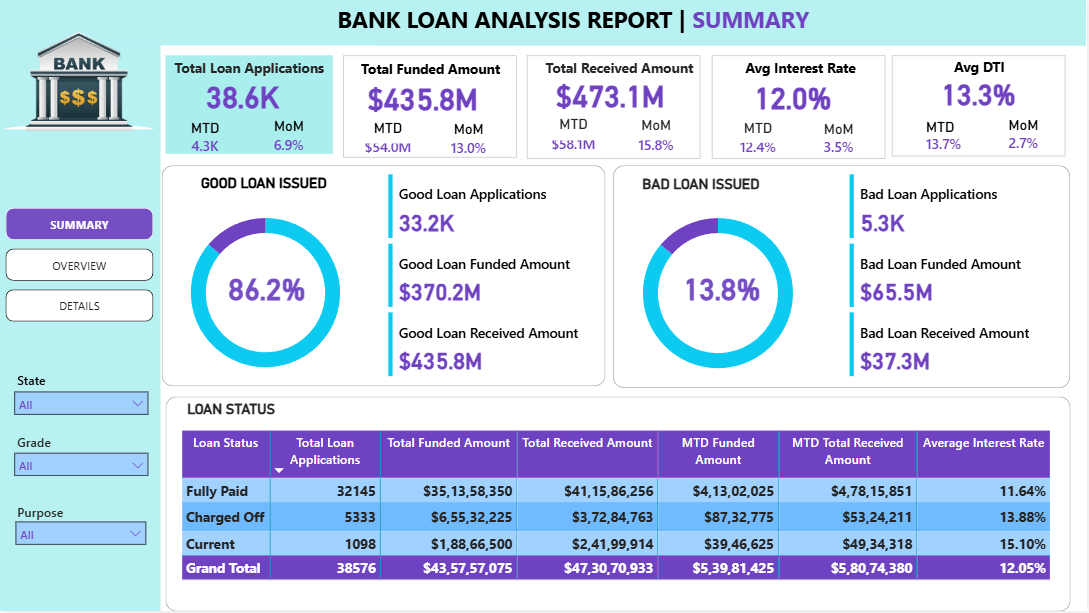

The page's visual inventory and layout, read from the dashboard file:
{"tool":"powerbi","page":{"name":"SUMMARY","canvas":[1280,720],"ordinal":0},"visuals":[{"type":"shape","box":[0,0,1280.3,54.9],"z":0},{"type":"shape","box":[405.3,66,204.4,120.6],"z":0,"group":"g2"},{"type":"shape","box":[622,66.4,204.4,122.1],"z":0,"group":"g3"},{"type":"shape","box":[840.7,66.6,204.4,122.1],"z":0,"group":"g4"},{"type":"shape","box":[197,67,197.1,116.2],"z":0,"group":"g1"},{"type":"shape","box":[1051.6,67,204.4,119.1],"z":0,"group":"g5"},{"type":"shape","box":[0,54.4,191.2,666.2],"z":1000},{"type":"card","fields":{"Values":["financial_loan.Total Loan Applications"]},"box":[216,88.3,143.6,49.1],"z":1000,"group":"g1"},{"type":"card","fields":{"Values":["financial_loan.Total Received Amount"]},"box":[646,88.4,149.6,46.9],"z":1000,"group":"g3"},{"type":"card","fields":{"Values":["financial_loan.Average Interest Rate"]},"box":[860.2,89.2,149.5,49.1],"z":1000,"group":"g4"},{"type":"card","fields":{"Values":["financial_loan.Total Funded Amount"]},"box":[424.2,90.3,149.5,48],"z":1000,"group":"g2"},{"type":"textbox","box":[1046.6,63.8,214.7,49.1],"z":2000,"group":"g5"},{"type":"textbox","box":[837.2,64.7,214.7,49.1],"z":2000,"group":"g4"},{"type":"textbox","box":[623,65,214.8,46.9],"z":2000,"group":"g3"},{"type":"textbox","box":[194,65.4,202.7,45.9],"z":2000,"group":"g1"},{"type":"shape","box":[192.7,196.1,522,260],"z":2000},{"type":"card","title":"MTD","fields":{"Values":["financial_loan.MTD Total Received Amount"]},"box":[639.2,137.5,74.3,41.3],"z":3000,"group":"g3"},{"type":"card","title":"MTD","fields":{"Values":["financial_loan.MTD Funded Amount"]},"box":[417.4,140.9,82.2,42],"z":3000,"group":"g2"},{"type":"card","title":"MTD","fields":{"Values":["financial_loan.MTD Avg Int Rate"]},"box":[853.4,141,82.2,42.9],"z":3000,"group":"g4"},{"type":"card","title":"MTD","fields":{"Values":["financial_loan.MTD Loan Applications"]},"box":[214.9,142.6,57.7,45.4],"z":3000,"group":"g1"},{"type":"card","fields":{"Values":["financial_loan.Good Loan %"]},"box":[238,315.3,155.8,49.1],"z":3000},{"type":"textbox","box":[393.9,0,587.7,63.8],"z":4000},{"type":"card","title":"MoM","fields":{"Values":["financial_loan.MoM Total Received Amount"]},"box":[744.7,139,60.1,43.3],"z":4000,"group":"g3"},{"type":"card","title":"MoM","fields":{"Values":["financial_loan.MoM Loan Application"]},"box":[313.1,140.1,57.7,45.4],"z":4000,"group":"g1"},{"type":"card","title":"MoM","fields":{"Values":["financial_loan.MoM Total Funded Amount"]},"box":[522.9,142.1,60.1,44.4],"z":4000,"group":"g2"},{"type":"card","title":"MoM","fields":{"Values":["financial_loan.MoM Avg Int Rate"]},"box":[958.9,142.2,60.1,45.4],"z":4000,"group":"g4"},{"type":"group","id":"g1","title":"Group 1","box":[194,65.4,202.7,122.6],"z":5000},{"type":"group","id":"g2","title":"Group 1","box":[401.2,66,214.7,120.6],"z":6000},{"type":"group","id":"g3","title":"Group 1","box":[622,65,215.7,123.5],"z":7000},{"type":"textbox","box":[401.2,66.3,214.7,48],"z":7500,"group":"g2"},{"type":"group","id":"g4","title":"Group 1","box":[837.2,64.7,214.7,124],"z":8000},{"type":"group","id":"g5","title":"Group 1","box":[1046.6,63.8,214.7,122.3],"z":9000},{"type":"textbox","box":[1104.3,88.3,112.9,56.4],"z":10000},{"type":"textbox","box":[1087.1,135,67.5,55.2],"z":11000},{"type":"textbox","box":[1184.1,133.7,67.5,55.2],"z":12000},{"type":"shape","box":[723.1,196.2,537.8,262.2],"z":13000},{"type":"donutChart","fields":{"Category":["financial_loan.Good vs Bad Loan"],"Y":["financial_loan.Total Loan Applications"]},"box":[190.2,230.4,250.3,229.4],"z":14000},{"type":"textbox","box":[234.1,201.5,188.2,35.3],"z":15000},{"type":"cardVisual","fields":{"Data":["financial_loan.Good Loan Applications","financial_loan.Good Loan Funded Amount","financial_loan.Good Loan Received Amount"]},"box":[454,202.2,246.6,249.1],"z":16000},{"type":"donutChart","fields":{"Category":["financial_loan.Good vs Bad Loan"],"Y":["financial_loan.Total Loan Applications"]},"box":[722.8,231.6,250.3,230.7],"z":17000},{"type":"textbox","box":[753.4,203.4,187.7,34.4],"z":18000},{"type":"card","fields":{"Values":["financial_loan.Bad Loan %"]},"box":[774.2,315.3,155.8,49.1],"z":19000},{"type":"cardVisual","fields":{"Data":["financial_loan.Bad Loan Applications","financial_loan.Bad Loan Funded Amount","financial_loan.Bad Loan Received Amount"]},"box":[996.4,202.2,246.6,249.1],"z":20000},{"type":"shape","box":[197.1,467.6,1064.7,252.9],"z":21000},{"type":"tableEx","fields":{"Values":["financial_loan.loan_status","financial_loan.Total Loan Applications","financial_loan.Total Funded Amount","financial_loan.Total Received Amount","financial_loan.MTD Funded Amount","financial_loan.MTD Total Received Amount","financial_loan.Average Interest Rate"]},"box":[210.3,502.9,1041.2,200],"z":22000},{"type":"textbox","box":[213.2,467.6,163.2,32.4],"z":23000},{"type":"slicer","fields":{"Values":["financial_loan.address_state"]},"box":[9.5,451.4,178.4,51.4],"z":24000},{"type":"textbox","box":[17.6,433.8,64.9,33.8],"z":25000},{"type":"slicer","fields":{"Values":["financial_loan.grade"]},"box":[9.5,523,178.4,48.6],"z":26000},{"type":"textbox","box":[17.6,505.4,73,35.1],"z":27000},{"type":"slicer","fields":{"Values":["financial_loan.purpose"]},"box":[9.8,603.7,174.2,50.3],"z":28000},{"type":"textbox","box":[17.2,587.7,84.7,30.7],"z":29000},{"type":"image","box":[2.7,6.8,185.1,179.7],"z":30000},{"type":"pageNavigator","box":[9.5,245.9,174.3,136.5],"z":31000}]}

Visuals, with their boxes in screenshot pixels (x1, y1, x2, y2), scaled from the page's 1280x720 canvas onto the 1089x613 screenshot:
shape: [x1=0, y1=0, x2=1088, y2=47]
shape: [x1=345, y1=56, x2=519, y2=159]
shape: [x1=529, y1=57, x2=703, y2=160]
shape: [x1=715, y1=57, x2=889, y2=161]
shape: [x1=168, y1=57, x2=335, y2=156]
shape: [x1=895, y1=57, x2=1069, y2=158]
shape: [x1=0, y1=46, x2=163, y2=612]
card - financial_loan.Total Loan Applications: [x1=184, y1=75, x2=306, y2=117]
card - financial_loan.Total Received Amount: [x1=550, y1=75, x2=677, y2=115]
card - financial_loan.Average Interest Rate: [x1=732, y1=76, x2=859, y2=118]
card - financial_loan.Total Funded Amount: [x1=361, y1=77, x2=488, y2=118]
textbox: [x1=890, y1=54, x2=1073, y2=96]
textbox: [x1=712, y1=55, x2=895, y2=97]
textbox: [x1=530, y1=55, x2=713, y2=95]
textbox: [x1=165, y1=56, x2=338, y2=95]
shape: [x1=164, y1=167, x2=608, y2=388]
"MTD" card: [x1=544, y1=117, x2=607, y2=152]
"MTD" card: [x1=355, y1=120, x2=425, y2=156]
"MTD" card: [x1=726, y1=120, x2=796, y2=157]
"MTD" card: [x1=183, y1=121, x2=232, y2=160]
card - financial_loan.Good Loan %: [x1=202, y1=268, x2=335, y2=310]
textbox: [x1=335, y1=0, x2=835, y2=54]
"MoM" card: [x1=634, y1=118, x2=685, y2=155]
"MoM" card: [x1=266, y1=119, x2=315, y2=158]
"MoM" card: [x1=445, y1=121, x2=496, y2=159]
"MoM" card: [x1=816, y1=121, x2=867, y2=160]
"Group 1" group: [x1=165, y1=56, x2=338, y2=160]
"Group 1" group: [x1=341, y1=56, x2=524, y2=159]
"Group 1" group: [x1=529, y1=55, x2=713, y2=160]
textbox: [x1=341, y1=56, x2=524, y2=97]
"Group 1" group: [x1=712, y1=55, x2=895, y2=161]
"Group 1" group: [x1=890, y1=54, x2=1073, y2=158]
textbox: [x1=940, y1=75, x2=1036, y2=123]
textbox: [x1=925, y1=115, x2=982, y2=162]
textbox: [x1=1007, y1=114, x2=1065, y2=161]
shape: [x1=615, y1=167, x2=1073, y2=390]
donutChart - financial_loan.Good vs Bad Loan x financial_loan.Total Loan Applications: [x1=162, y1=196, x2=375, y2=391]
textbox: [x1=199, y1=172, x2=359, y2=202]
cardVisual - financial_loan.Good Loan Applications x financial_loan.Good Loan Funded Amount: [x1=386, y1=172, x2=596, y2=384]
donutChart - financial_loan.Good vs Bad Loan x financial_loan.Total Loan Applications: [x1=615, y1=197, x2=828, y2=394]
textbox: [x1=641, y1=173, x2=801, y2=202]
card - financial_loan.Bad Loan %: [x1=659, y1=268, x2=791, y2=310]
cardVisual - financial_loan.Bad Loan Applications x financial_loan.Bad Loan Funded Amount: [x1=848, y1=172, x2=1058, y2=384]
shape: [x1=168, y1=398, x2=1074, y2=612]
tableEx - financial_loan.loan_status x financial_loan.Total Loan Applications: [x1=179, y1=428, x2=1065, y2=598]
textbox: [x1=181, y1=398, x2=320, y2=426]
slicer - financial_loan.address_state: [x1=8, y1=384, x2=160, y2=428]
textbox: [x1=15, y1=369, x2=70, y2=398]
slicer - financial_loan.grade: [x1=8, y1=445, x2=160, y2=487]
textbox: [x1=15, y1=430, x2=77, y2=460]
slicer - financial_loan.purpose: [x1=8, y1=514, x2=157, y2=557]
textbox: [x1=15, y1=500, x2=87, y2=526]
image: [x1=2, y1=6, x2=160, y2=159]
pageNavigator: [x1=8, y1=209, x2=156, y2=326]
